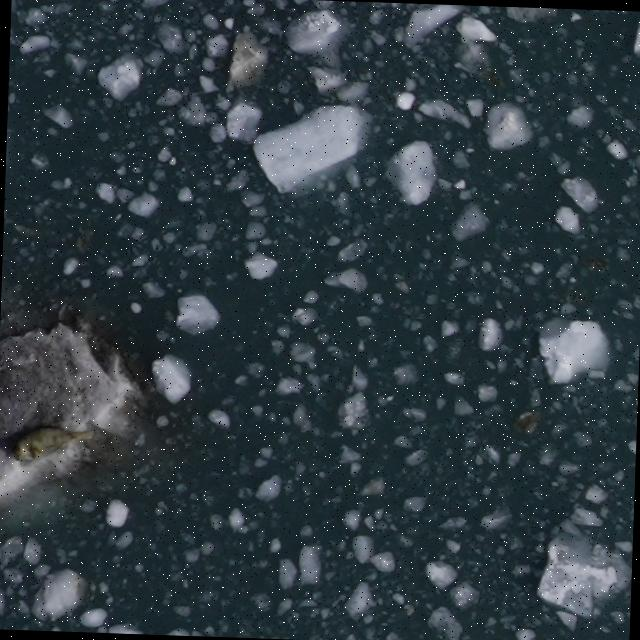seal: (6, 419, 103, 467)
